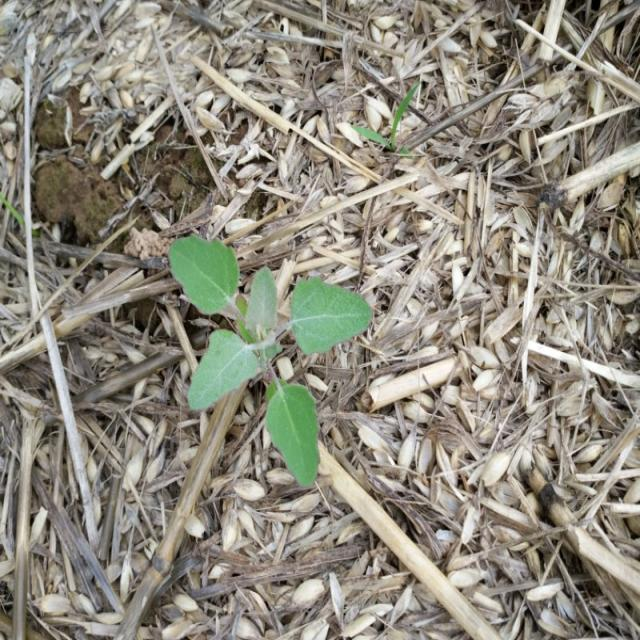goosefoots: (150, 174, 366, 468)
